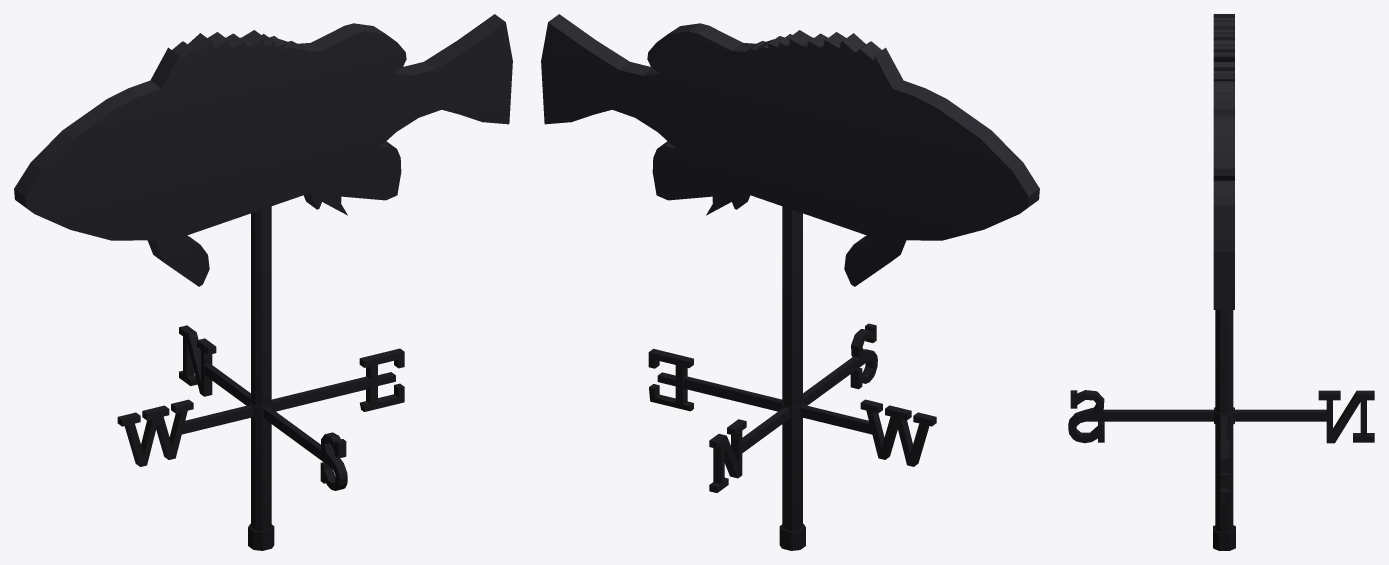
File: Prop_Weathervane_04.obj
The picture shows the model from 3 angles, left to right: view 1: azimuth 30°, elevation 25°; view 2: azimuth 150°, elevation 25°; view 3: azimuth 270°, elevation 25°; orthographic projection. The views are drawn at different scales.
Visible parts, largest first — view 1: Prop_Weathervane_Top_04, Prop_Weathervane_04; view 2: Prop_Weathervane_Top_04, Prop_Weathervane_04; view 3: Prop_Weathervane_04, Prop_Weathervane_Top_04.
Part boxes in pixels (box(x1,y1,x2,y2)): Prop_Weathervane_Top_04: box(14, 14, 512, 286); Prop_Weathervane_04: box(117, 206, 404, 550); Prop_Weathervane_Top_04: box(541, 14, 1039, 286); Prop_Weathervane_04: box(648, 206, 936, 550); Prop_Weathervane_04: box(1068, 310, 1374, 550); Prop_Weathervane_Top_04: box(1213, 14, 1234, 309).
Bounding box in the file's own units: 1.01 × 1.03 × 0.5747.
1 material, 1 textured.
